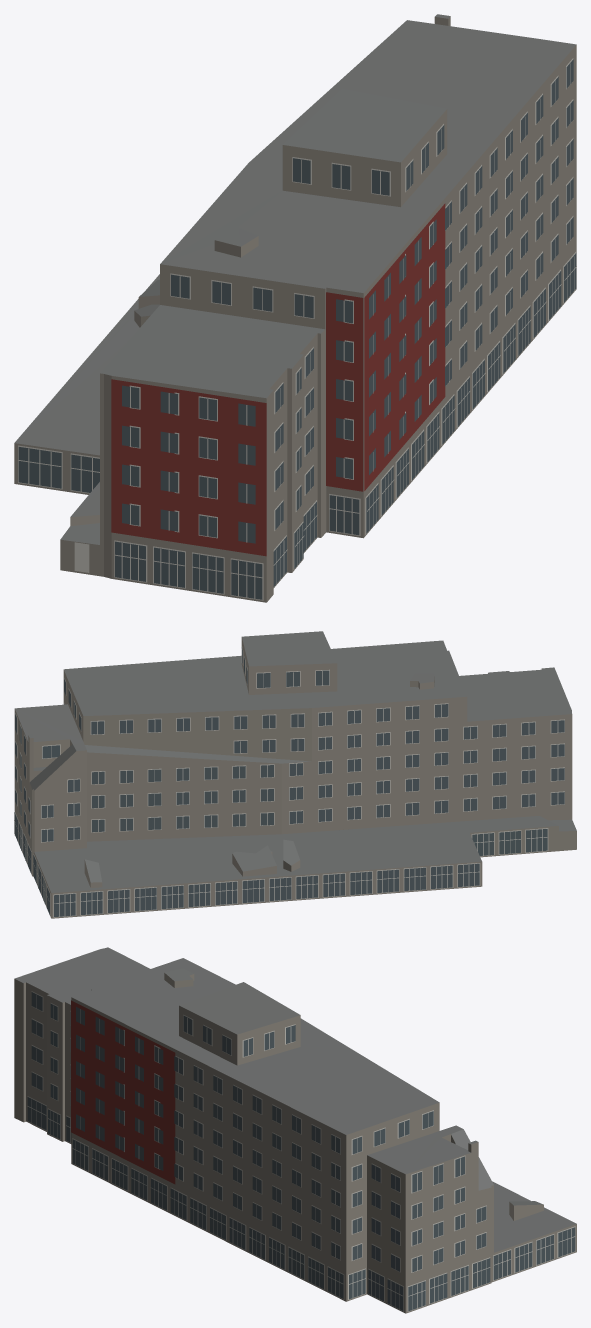
The model's file is haparandaweg-65.glb.
3 renders of one model, top to bottom at view 1: azimuth 30°, elevation 25°; view 2: azimuth 150°, elevation 25°; view 3: azimuth 270°, elevation 25°, orthographic. The views are drawn at different scales.
Visible parts, largest first — view 1: haparandaweg-65; view 2: haparandaweg-65; view 3: haparandaweg-65.
Part boxes in pixels (box(x1,y1,x2,y2)): haparandaweg-65: box(14, 14, 576, 602); haparandaweg-65: box(14, 631, 576, 918); haparandaweg-65: box(14, 947, 576, 1313).
Bounding box in the file's own units: 57.33 × 22.37 × 57.74.
